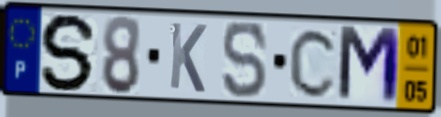8: (98, 12, 142, 97)
C: (287, 25, 341, 100)
K: (167, 20, 209, 96)
M: (335, 23, 403, 108)
S: (38, 11, 101, 94), (220, 19, 270, 101)
